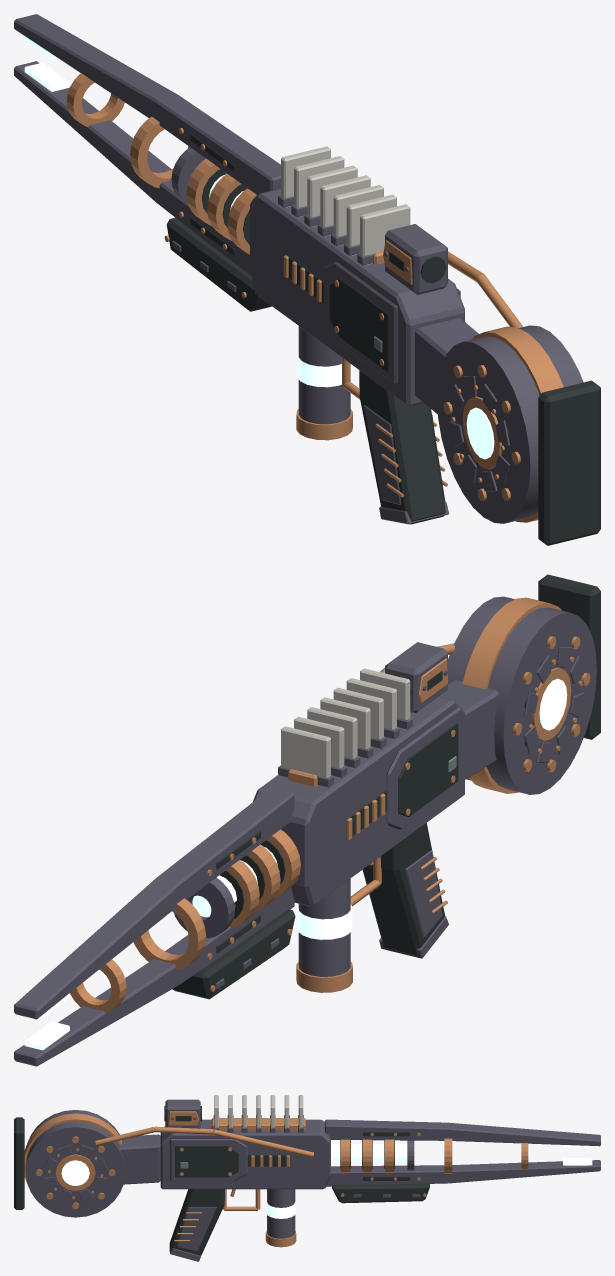
File: laser_0.glb
3 renders of one model, top to bottom at view 1: azimuth 30°, elevation 25°; view 2: azimuth 150°, elevation 25°; view 3: azimuth 270°, elevation 25°, orthographic. The views are drawn at different scales.
Visible parts, largest first — view 1: Weapon_laser_v1; view 2: Weapon_laser_v1; view 3: Weapon_laser_v1.
Boxes of the visible parts, box(x1,y1,x2,y2) form: Weapon_laser_v1: box(14, 14, 600, 545); Weapon_laser_v1: box(14, 574, 600, 1066); Weapon_laser_v1: box(14, 1095, 600, 1261).
Bounding box in the file's own units: 0.087 × 0.2927 × 1.
